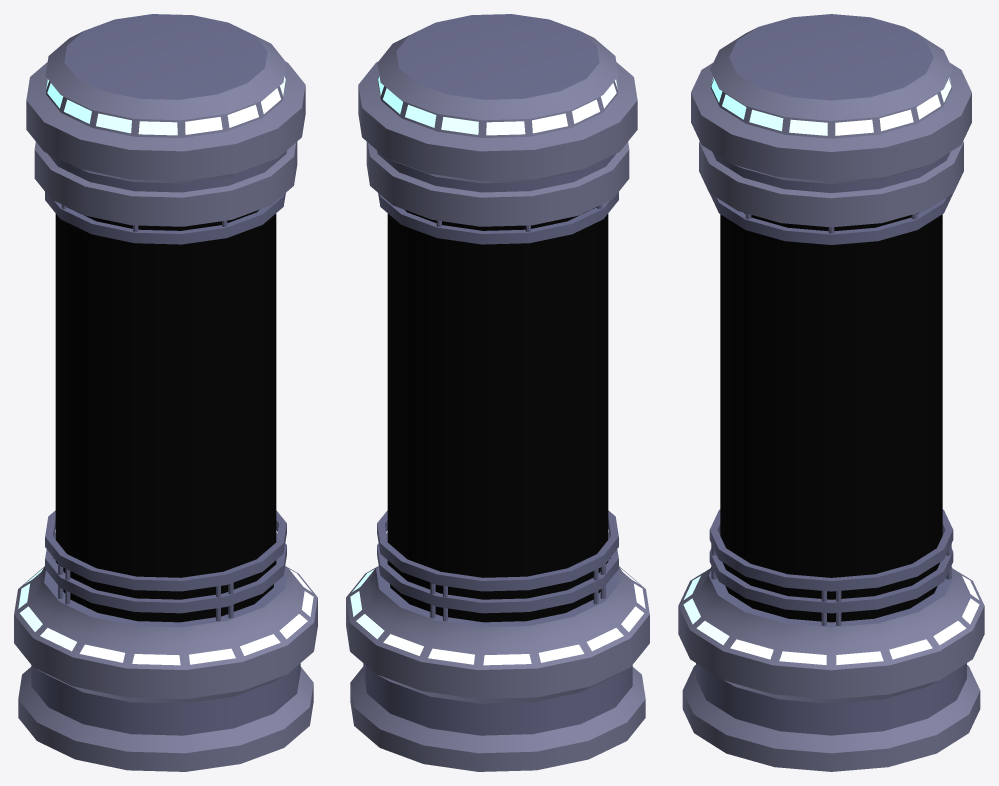
The model's file is SampleCabinet.fbx.
3 views of the same model, side by side, from view 1: azimuth 30°, elevation 25°; view 2: azimuth 150°, elevation 25°; view 3: azimuth 270°, elevation 25° (orthographic).
Parts seen in each view (by area): view 1: SampleCabinet; view 2: SampleCabinet; view 3: SampleCabinet.
Part boxes in pixels (x1,y1,x2,y2): SampleCabinet: [14, 14, 317, 771]; SampleCabinet: [346, 14, 649, 771]; SampleCabinet: [678, 14, 984, 771].
Size of the model in its own units: 2.26 by 5.34 by 2.26.
